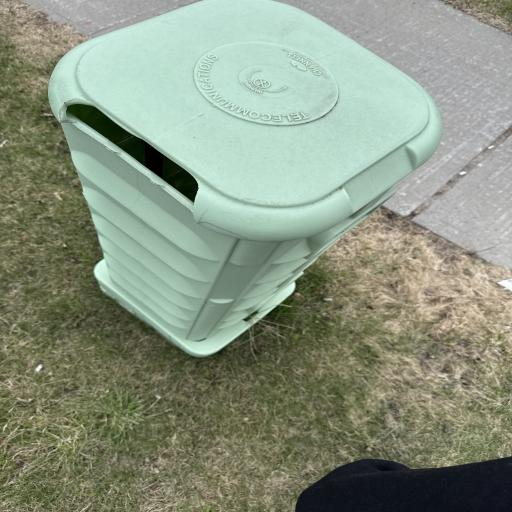Electrical Box: (50, 4, 442, 358)
